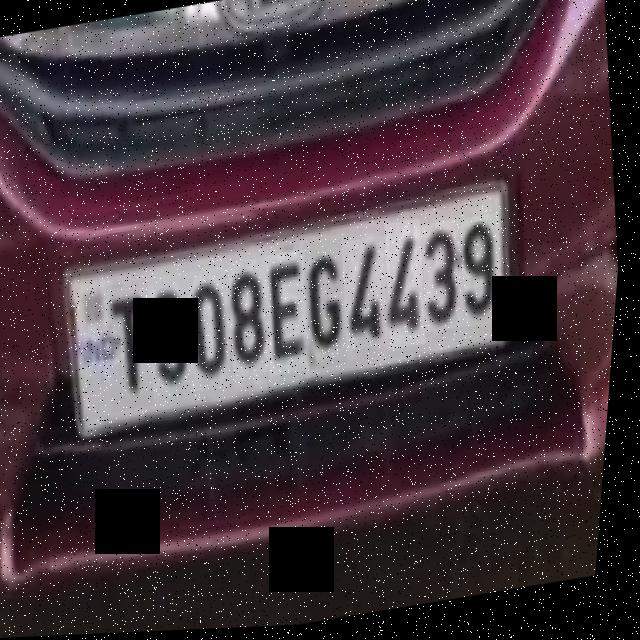0: (183, 266, 244, 394)
3: (418, 223, 472, 337)
4: (381, 222, 438, 353), (340, 238, 400, 355)
8: (224, 258, 286, 392)
9: (454, 216, 515, 332)
E: (262, 251, 322, 379)
G: (298, 240, 360, 373)
S: (145, 273, 204, 403)
T: (103, 280, 166, 414)
